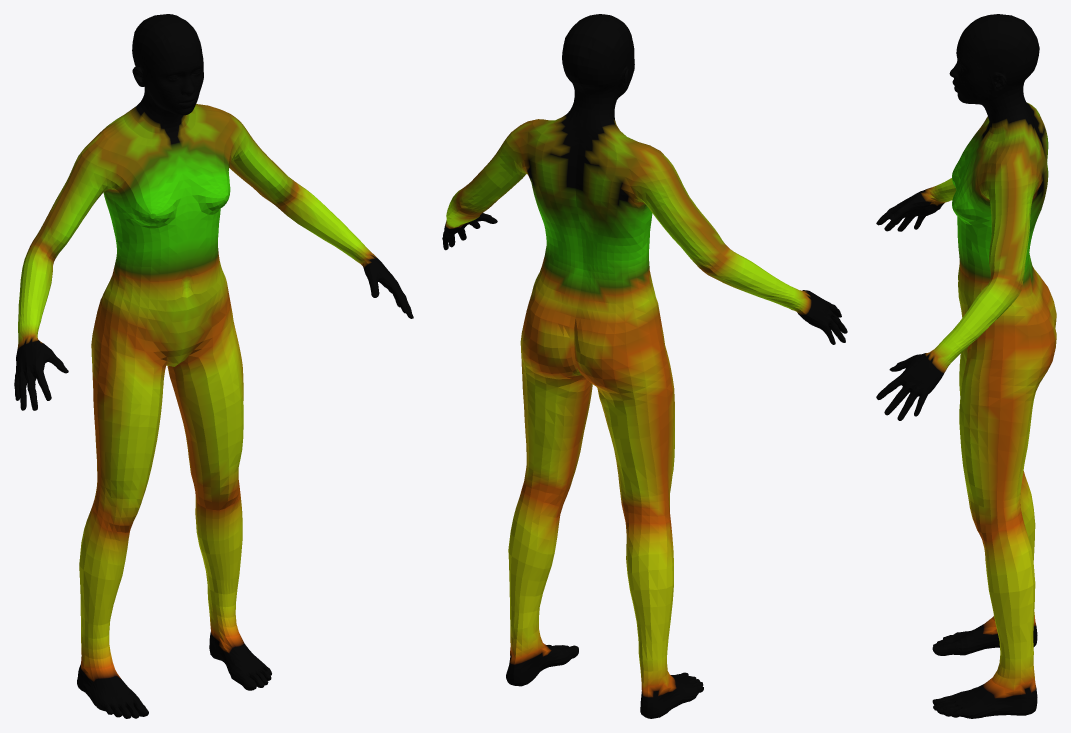
Rendered from female-curvy.glb.
3 views of the same model, side by side, from view 1: azimuth 30°, elevation 25°; view 2: azimuth 150°, elevation 25°; view 3: azimuth 270°, elevation 25° (orthographic).
Visible parts, largest first — view 1: world; view 2: world; view 3: world.
Part boxes in pixels (x1,y1,x2,y2): world: [14, 14, 413, 718]; world: [442, 14, 847, 718]; world: [876, 14, 1056, 718].
Bounding box in the file's own units: 1.1 × 1.78 × 0.4392.
